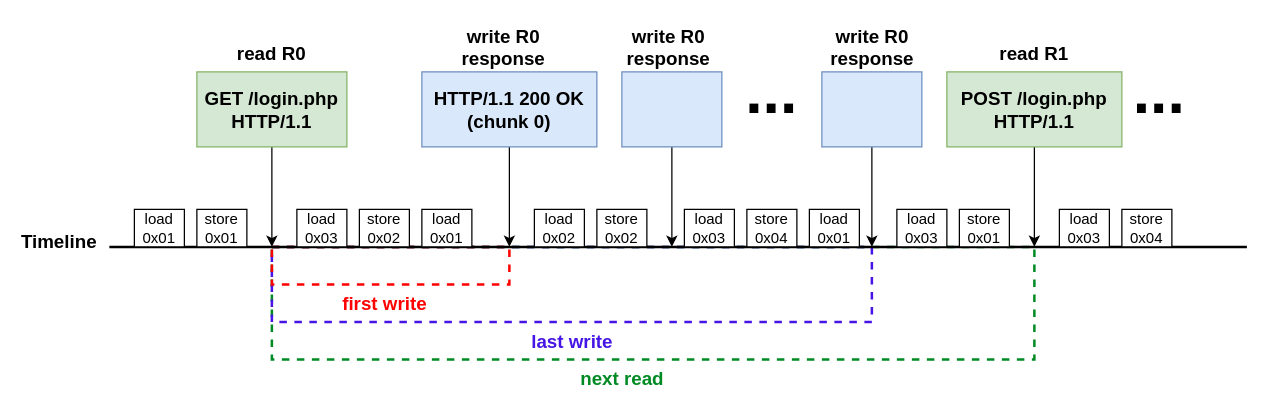
This 1271x418 diagram has some shape labels left out. The shapes that lost their labels are listed below. From the top down, each one's centre as x and y in pixels, then its label:
At (671,109): "(chunk 1)".
At (871,109): "(chunk n)".
